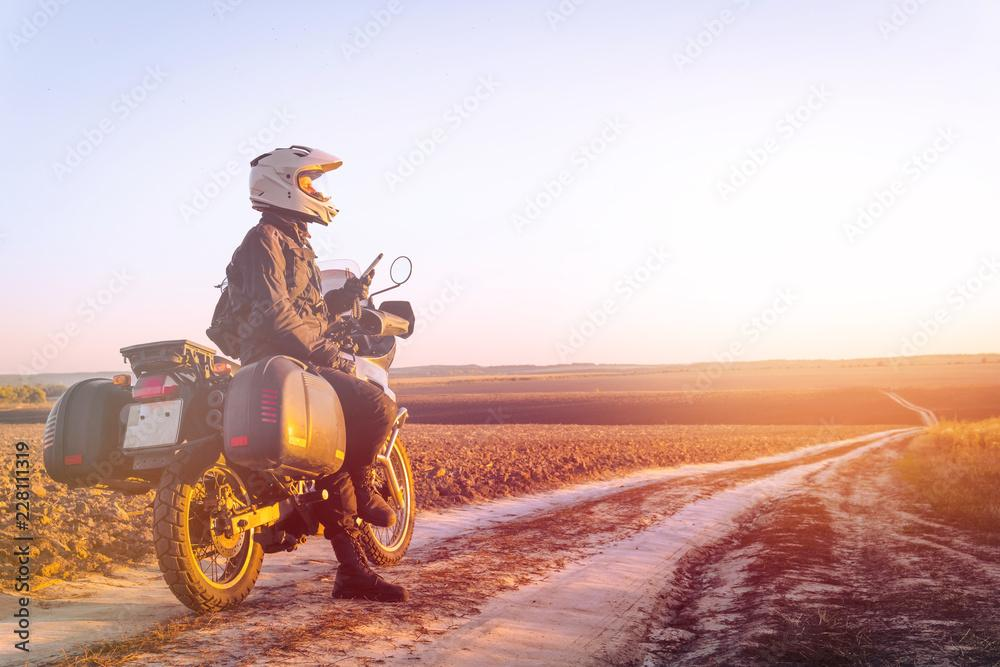helmet: (248, 144, 344, 227)
